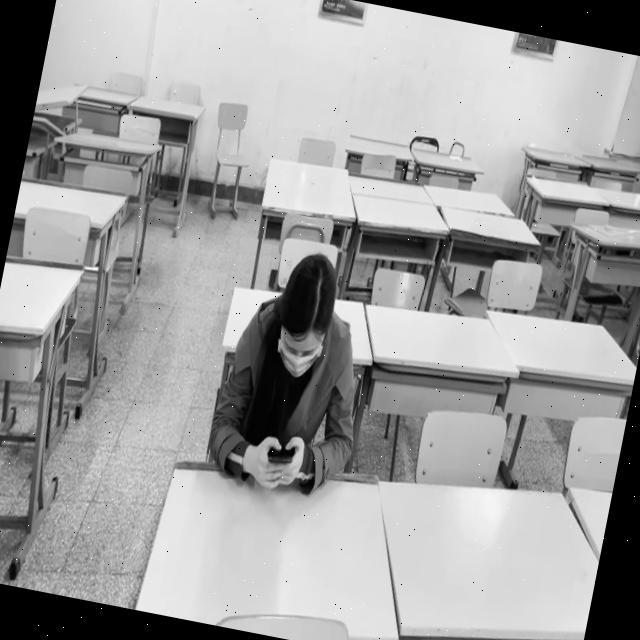phone: (201, 243, 386, 502)
